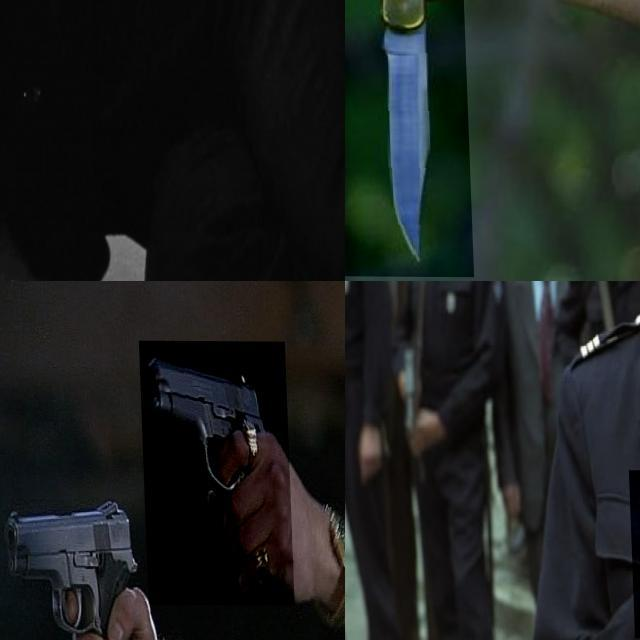-: (345, 0, 469, 276)
gun-knife-thesis - v11 Yolov5 augmented: (138, 340, 292, 605), (0, 499, 154, 640)
